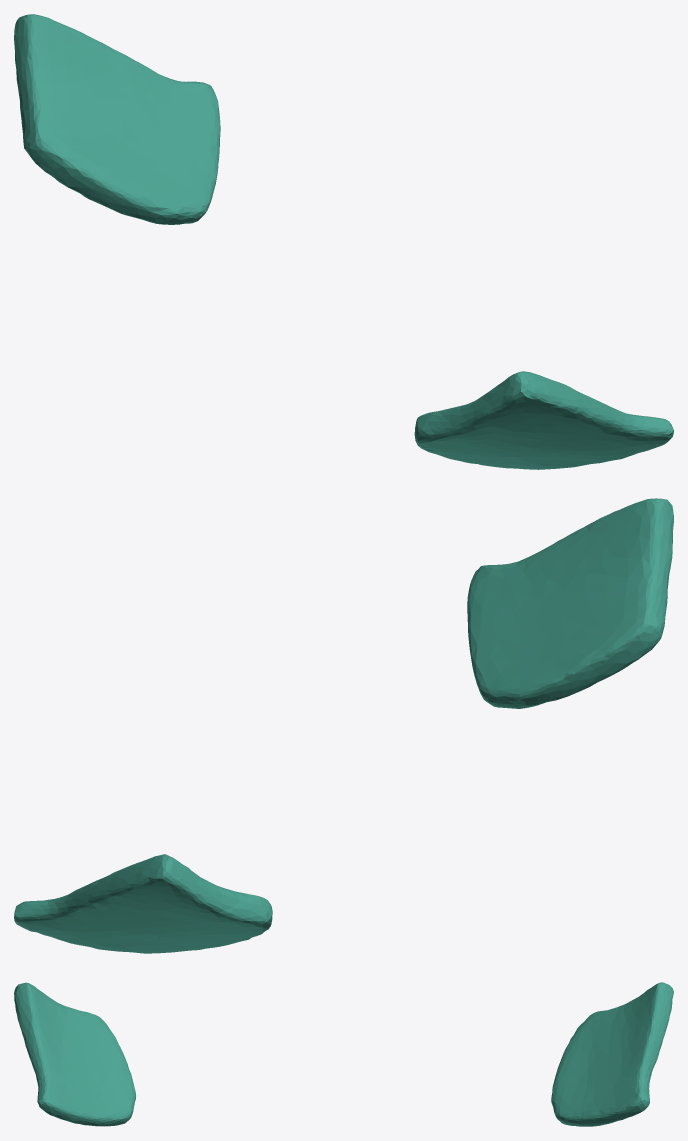
3 renders of one model, top to bottom at view 1: azimuth 30°, elevation 25°; view 2: azimuth 150°, elevation 25°; view 3: azimuth 270°, elevation 25°, orthographic. The views are drawn at different scales.
Parts seen in each view (by area): view 1: 1070.obj; view 2: 1070.obj; view 3: 1070.obj.
Boxes of the visible parts, x1,y1,x2,y2 form: 1070.obj: (14, 14, 673, 469); 1070.obj: (14, 498, 673, 953); 1070.obj: (14, 982, 673, 1126).
Bounding box in the file's own units: 1967 × 1477 × 7854.
